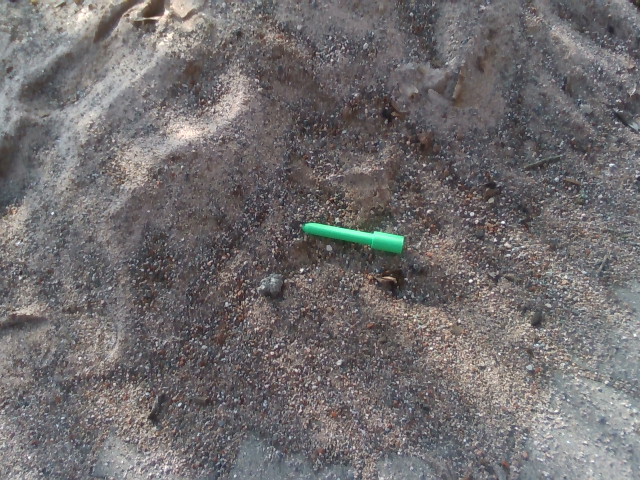Probe: (289, 210, 417, 262)
